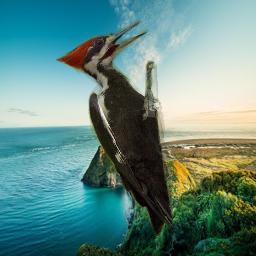Woodpecker: (55, 20, 173, 236)
